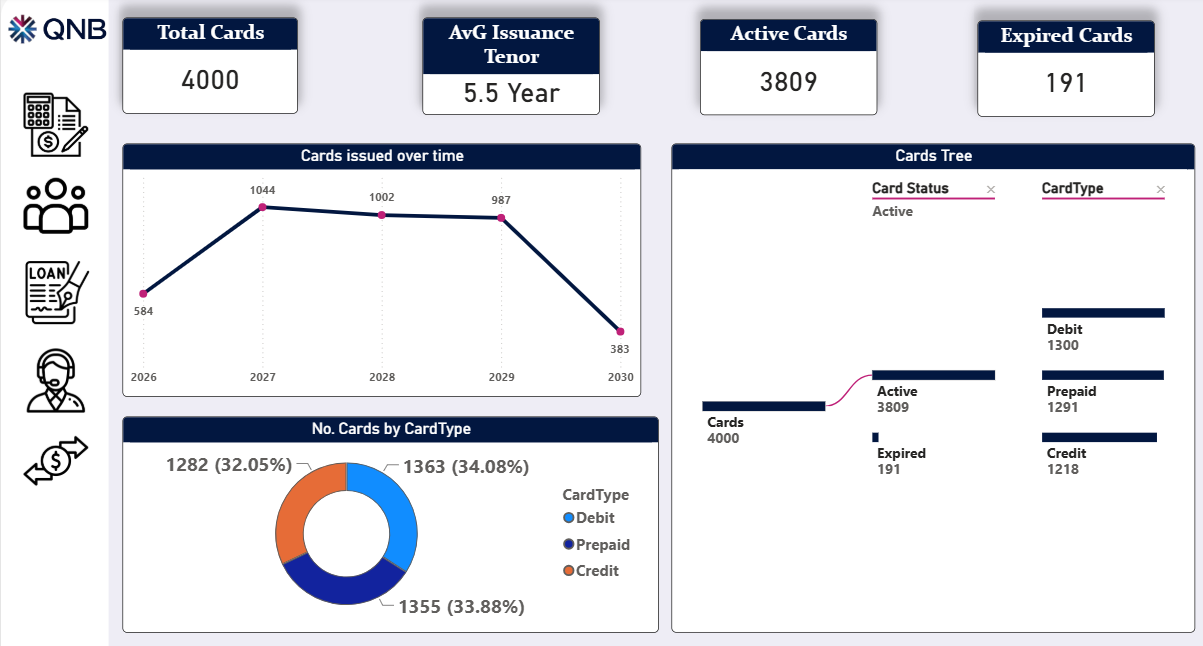

Layout of this report page (visuals, bound fields, positions):
{"tool":"powerbi","page":{"name":"Cards","canvas":[1280,720],"ordinal":3},"visuals":[{"type":"image","box":[23.9,100.2,68.4,74.8],"z":0},{"type":"image","box":[23.9,186.1,68.4,74.8],"z":1000},{"type":"image","box":[23.9,359.5,68.4,98.6],"z":2000},{"type":"image","box":[23.9,447,68.4,93.8],"z":3000},{"type":"image","box":[0,0,117.7,77.9],"z":4000},{"type":"image","box":[25.4,270.4,68.4,89.1],"z":5000},{"type":"card","title":"Total Cards","fields":{"Values":["_Measure.No. Cards"]},"box":[129.3,24.1,186.2,101.7],"z":6000},{"type":"card","title":"Expired Cards","fields":{"Values":["_Measure.Expired Cards"]},"box":[1035.5,27,187.7,101.8],"z":7000},{"type":"card","title":"Active Cards","fields":{"Values":["_Measure.Active Cards"]},"box":[741.1,25.9,187.9,101.7],"z":8000},{"type":"donutChart","fields":{"Y":["_Measure.No. Cards"],"Category":["Cards.CardType"]},"box":[129.3,446.6,569,229.3],"z":9000},{"type":"lineChart","title":"Cards issued over time","fields":{"Category":["Calender.Date.Variation.Date Hierarchy.Year"],"Y":["CountNonNull(Cards.IssuedDate)"]},"box":[129.3,156.9,550,269],"z":10000},{"type":"card","title":"AvG Issuance Tenor","fields":{"Values":["_Measure.AVG Issuance Tenor"]},"box":[446.8,24.1,187.9,103.4],"z":11000},{"type":"decompositionTreeVisual","title":"Cards Tree","fields":{"Analyze":["CountNonNull(Cards.CardID)"],"ExplainBy":["Cards.Card Status","Cards.CardType"]},"box":[710.3,156.9,555.2,519],"z":12000}]}

Visuals, with their boxes on the page's 1280x720 design canvas (x1, y1, x2, y2). These are canvas units, not pixel positions in the 1203x646 screenshot, which may show the page scaled, cropped or inside an application window:
image: BBox(24, 100, 92, 175)
image: BBox(24, 186, 92, 261)
image: BBox(24, 360, 92, 458)
image: BBox(24, 447, 92, 541)
image: BBox(0, 0, 118, 78)
image: BBox(25, 270, 94, 360)
"Total Cards" card: BBox(129, 24, 316, 126)
"Expired Cards" card: BBox(1036, 27, 1223, 129)
"Active Cards" card: BBox(741, 26, 929, 128)
donutChart - _Measure.No. Cards x Cards.CardType: BBox(129, 447, 698, 676)
"Cards issued over time" lineChart: BBox(129, 157, 679, 426)
"AvG Issuance Tenor" card: BBox(447, 24, 635, 128)
"Cards Tree" decompositionTreeVisual: BBox(710, 157, 1266, 676)
